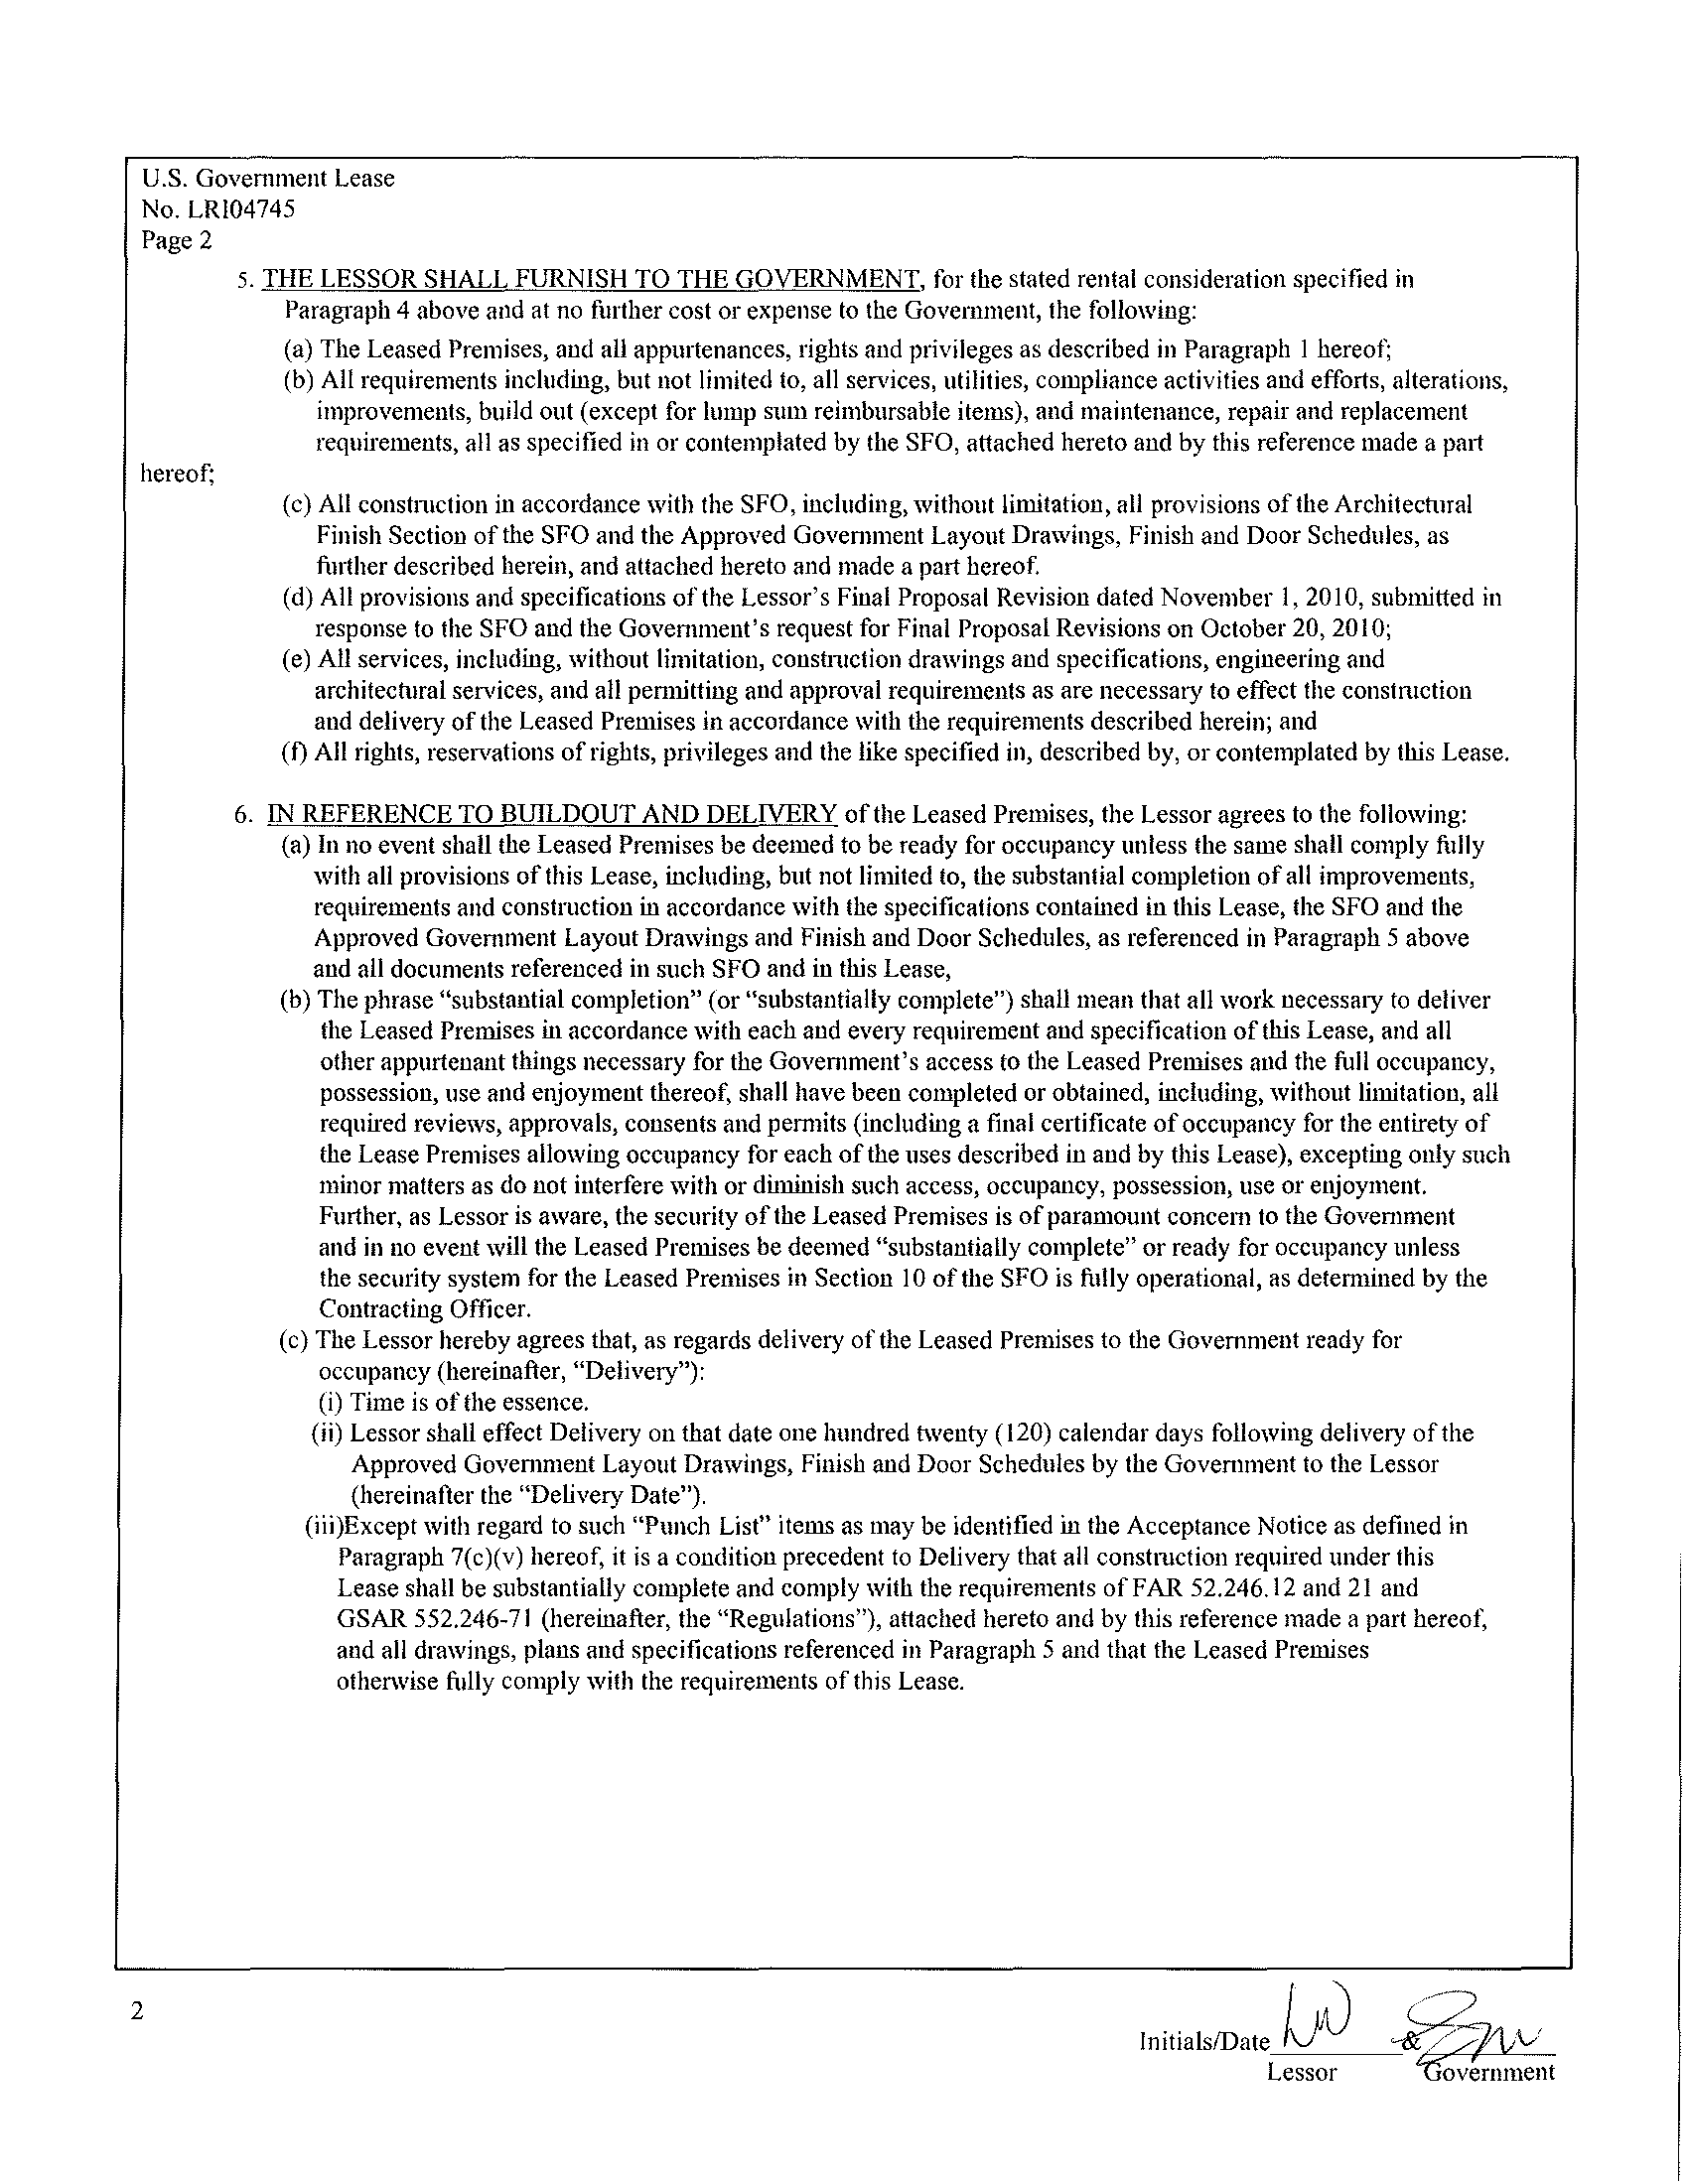handwritten: (1252, 1971, 1553, 2062)
